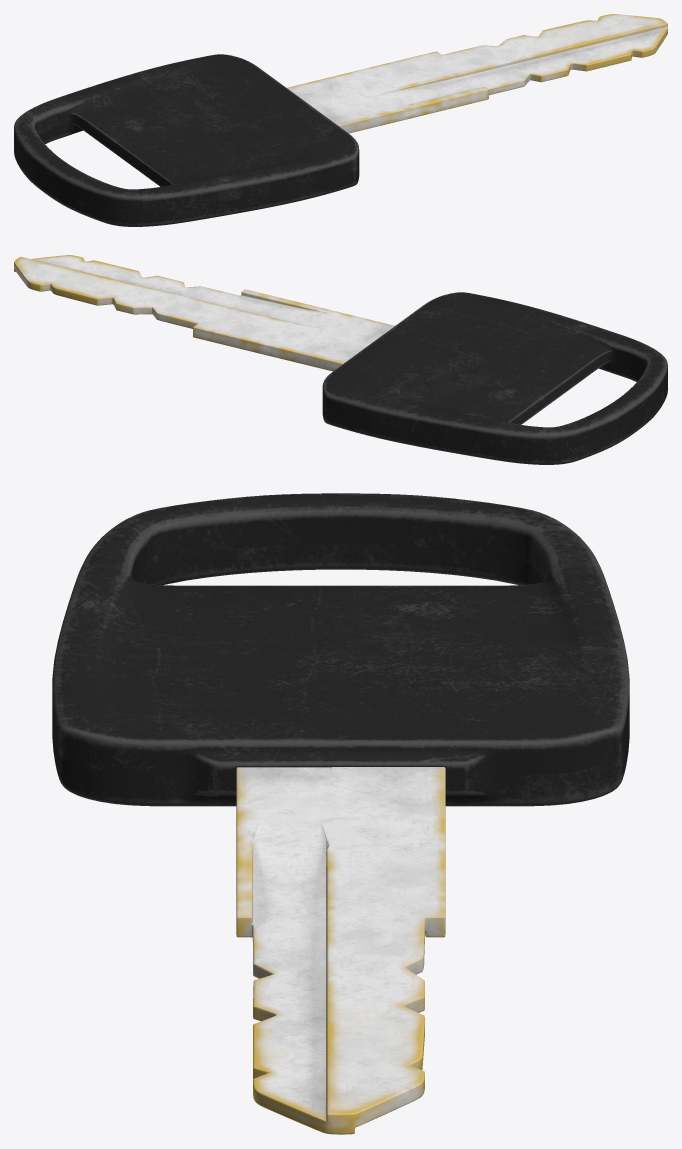
The model's file is Key.fbx.
3 renders of one model, top to bottom at view 1: azimuth 30°, elevation 25°; view 2: azimuth 150°, elevation 25°; view 3: azimuth 270°, elevation 25°, orthographic. The views are drawn at different scales.
Visible parts, largest first — view 1: Plane.001; view 2: Plane.001; view 3: Plane.001.
Part boxes in pixels (bbox=[...]): Plane.001: bbox=[14, 14, 667, 226]; Plane.001: bbox=[14, 255, 667, 464]; Plane.001: bbox=[52, 493, 629, 1134].
Bounding box in the file's own units: 12.39 × 0.6409 × 4.99.
1 material, 1 textured.
